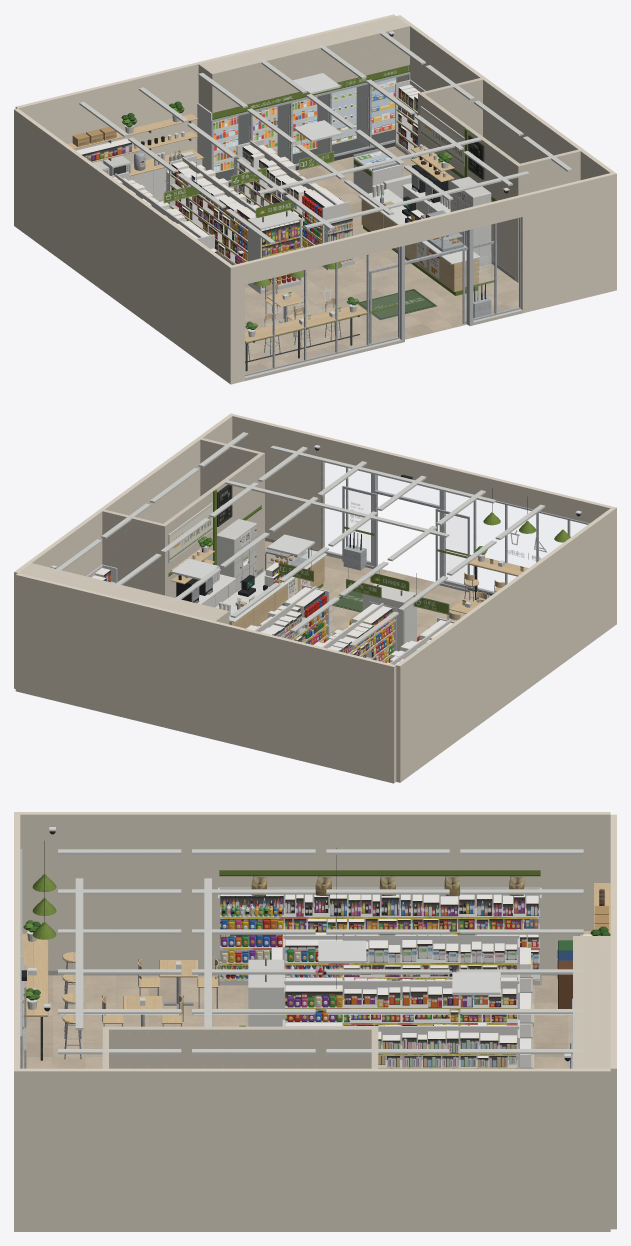
The model's file is cvs_interior.glb.
3 renders of one model, top to bottom at view 1: azimuth 30°, elevation 25°; view 2: azimuth 150°, elevation 25°; view 3: azimuth 270°, elevation 25°, orthographic. The views are drawn at different scales.
Visible parts, largest first — view 1: cvs_vc, WALL_left_vc, WALL_front_vc, FLOOR, cvs_goods, WALL_back_vc, WALL_right_vc, cvs_prints, cvs_wood, cvs_cooler, cvs_vm, WALL_front_vm (+2 smaller); view 2: WALL_back_vc, cvs_vc, WALL_left_vc, WALL_front_vc, WALL_right_vc, cvs_goods, cvs_prints, FLOOR, WALL_front_vm, cvs_wood, GLASS_front, cvs_vm (+1 smaller); view 3: WALL_right_vc, cvs_vc, WALL_left_vc, cvs_goods, FLOOR, cvs_wood, WALL_front_vc, WALL_back_vc, cvs_prints, cvs_interior_inst, cvs_vm, WALL_front_vm.
Boxes of the visible parts, x1,y1,x2,y2 form: cvs_vc: (79, 16, 580, 337); WALL_left_vc: (14, 108, 231, 382); WALL_front_vc: (228, 172, 616, 384); FLOOR: (159, 146, 518, 373); cvs_goods: (76, 84, 423, 278); WALL_back_vc: (15, 14, 395, 163); WALL_right_vc: (396, 15, 613, 179); cvs_prints: (72, 66, 496, 320); cvs_wood: (67, 114, 478, 342); cvs_cooler: (213, 77, 396, 172); cvs_vm: (108, 72, 491, 371); WALL_front_vm: (245, 217, 520, 376); WALL_back_vc: (15, 573, 396, 783); cvs_vc: (18, 432, 581, 664); WALL_left_vc: (396, 508, 614, 782); WALL_front_vc: (229, 413, 616, 625); WALL_right_vc: (14, 415, 232, 688); cvs_goods: (92, 562, 452, 664); cvs_prints: (168, 485, 523, 614); FLOOR: (256, 541, 490, 641); WALL_front_vm: (321, 461, 589, 593); cvs_wood: (171, 548, 528, 628); GLASS_front: (345, 490, 466, 584); cvs_vm: (191, 529, 494, 619); WALL_right_vc: (20, 1068, 610, 1231); cvs_vc: (21, 827, 610, 1068); WALL_left_vc: (20, 812, 610, 975); cvs_goods: (220, 894, 592, 1068); FLOOR: (22, 975, 571, 1068); cvs_wood: (22, 883, 610, 1023); WALL_front_vc: (14, 812, 22, 1231); WALL_back_vc: (610, 814, 616, 1229); cvs_prints: (219, 870, 608, 931); cvs_interior_inst: (251, 876, 524, 896); cvs_vm: (40, 848, 572, 1068); WALL_front_vm: (20, 849, 26, 1068).
Size of the model in its own units: 11.44 by 3.3 by 11.24.
Materials: 14 (11 with a texture image).
